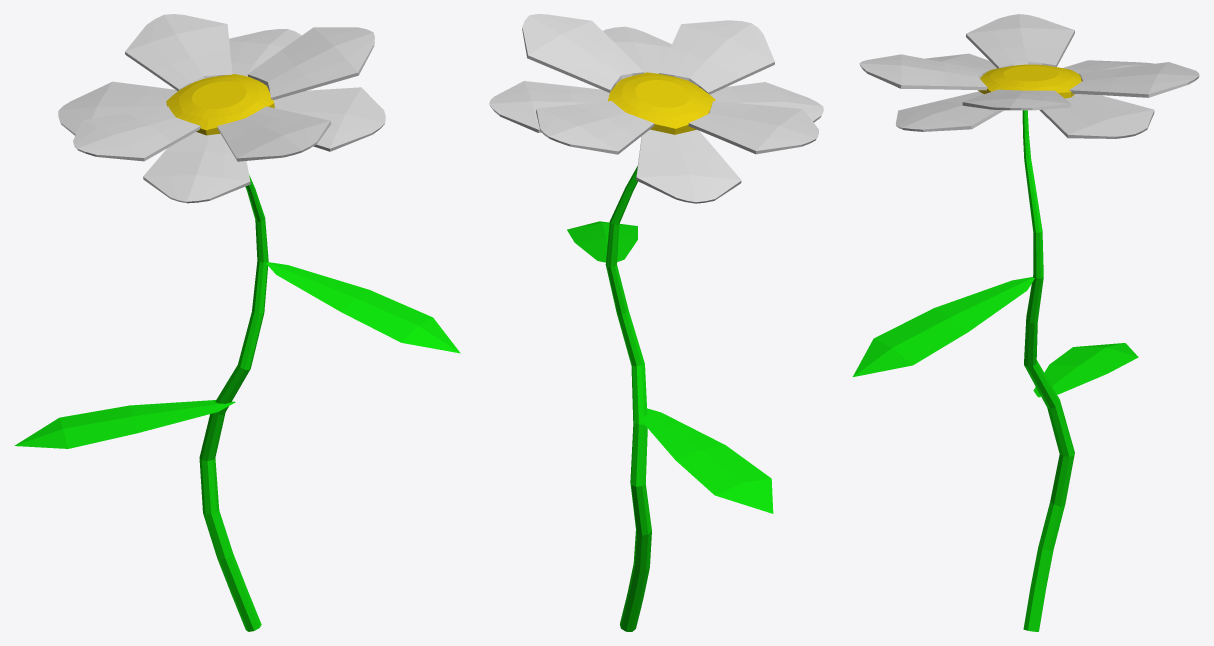
Rendered from flower_1.glb.
3 views of the same model, side by side, from view 1: azimuth 30°, elevation 25°; view 2: azimuth 150°, elevation 25°; view 3: azimuth 270°, elevation 25° (orthographic).
Visible parts, largest first — view 1: Cube; view 2: Cube; view 3: Cube.
Boxes of the visible parts, bbox=[...] form: Cube: bbox=[14, 14, 460, 631]; Cube: bbox=[489, 14, 823, 631]; Cube: bbox=[853, 14, 1199, 631].
Bounding box in the file's own units: 8 × 14.16 × 7.7.
